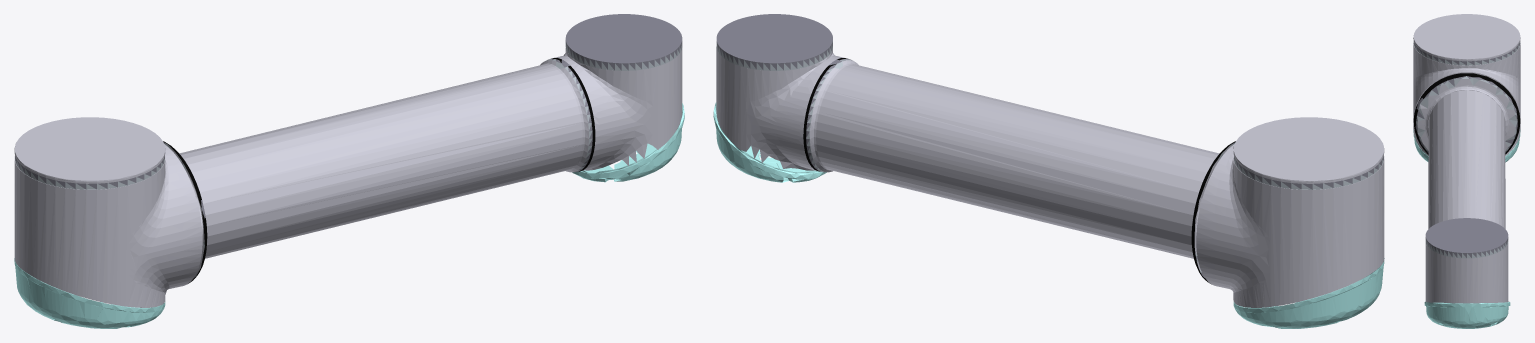
The model's file is LinearUR10Link3.dae.
3 renders of one model, left to right at view 1: azimuth 30°, elevation 25°; view 2: azimuth 150°, elevation 25°; view 3: azimuth 270°, elevation 25°, orthographic. The views are drawn at different scales.
Visible parts, largest first — view 1: LinearUR10Link3; view 2: LinearUR10Link3; view 3: LinearUR10Link3.
Part boxes in pixels (box(x1,y1,x2,y2)): LinearUR10Link3: box(14, 14, 684, 328); LinearUR10Link3: box(713, 14, 1384, 328); LinearUR10Link3: box(1413, 14, 1520, 328).
Size of the model in its own units: 0.7485 by 0.1505 by 0.1773.
